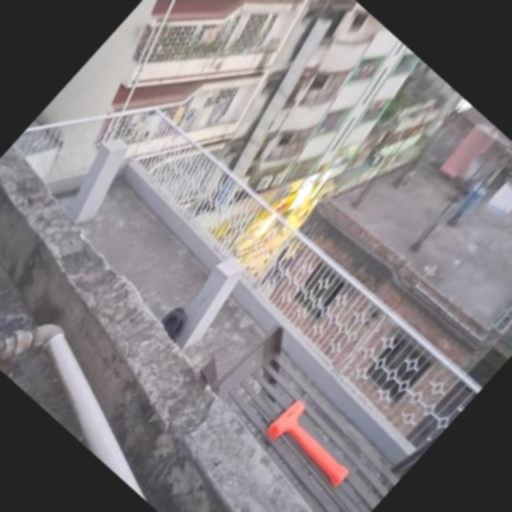mallet: (263, 396, 363, 494)
